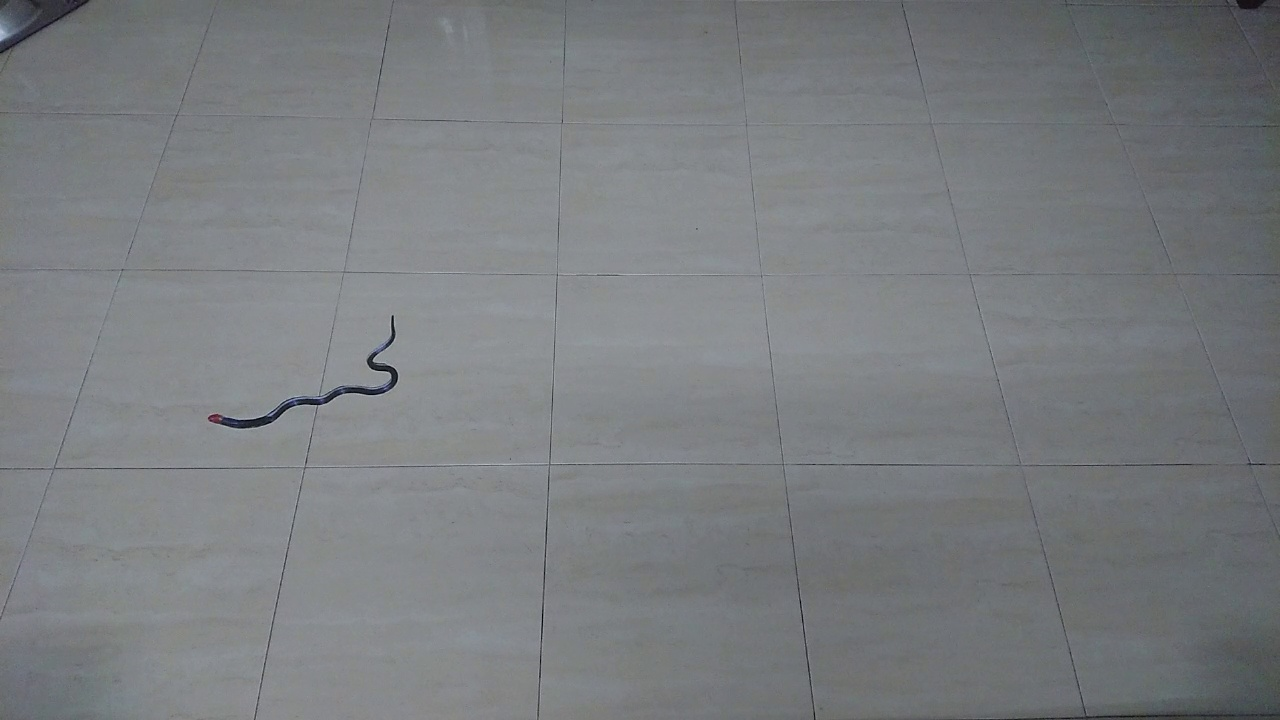snake: (195, 304, 414, 442)
